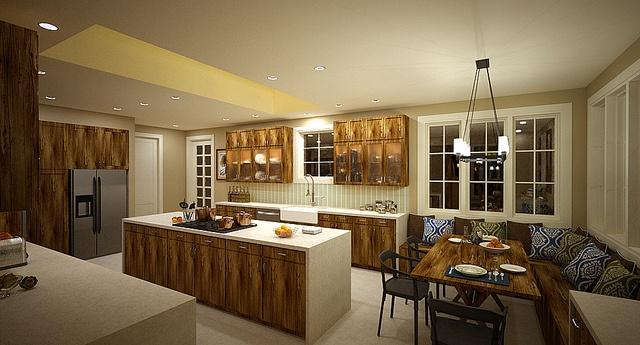Kursi: (377, 248, 428, 343)
Lemari: (331, 113, 410, 186), (222, 125, 293, 183)
Meja: (407, 232, 543, 303)
